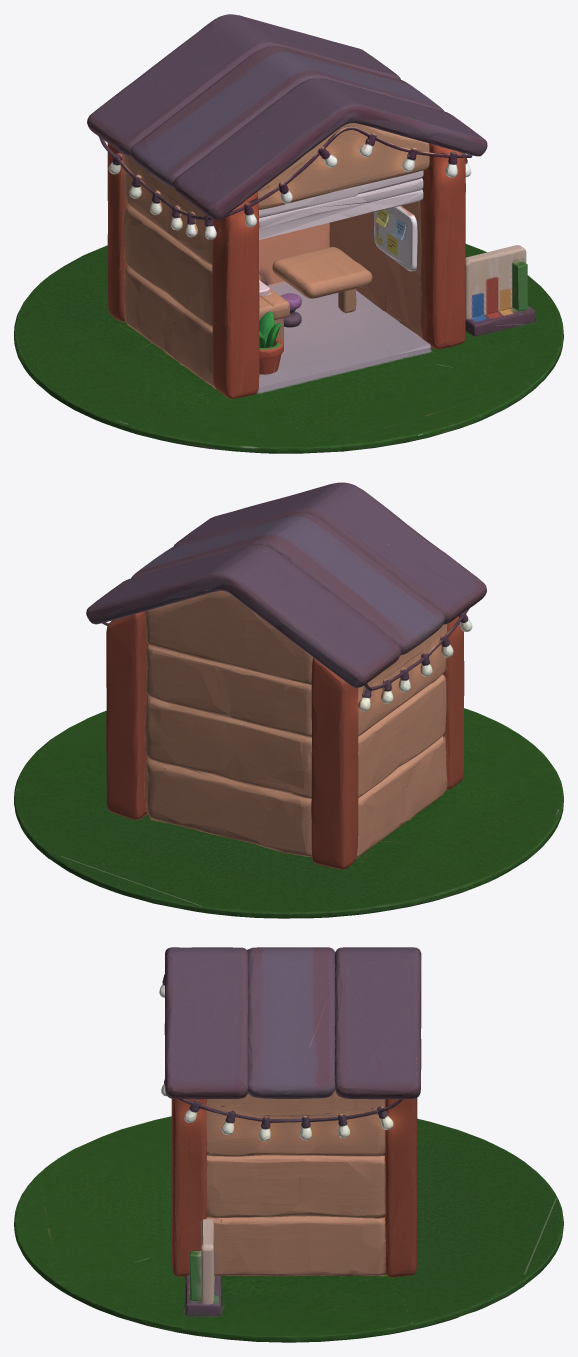
Rendered from garage.glb.
3 renders of one model, top to bottom at view 1: azimuth 30°, elevation 25°; view 2: azimuth 150°, elevation 25°; view 3: azimuth 270°, elevation 25°, orthographic.
Bounding box in the file's own units: 1.9 × 1.05 × 1.9.
1 material, 1 textured.
